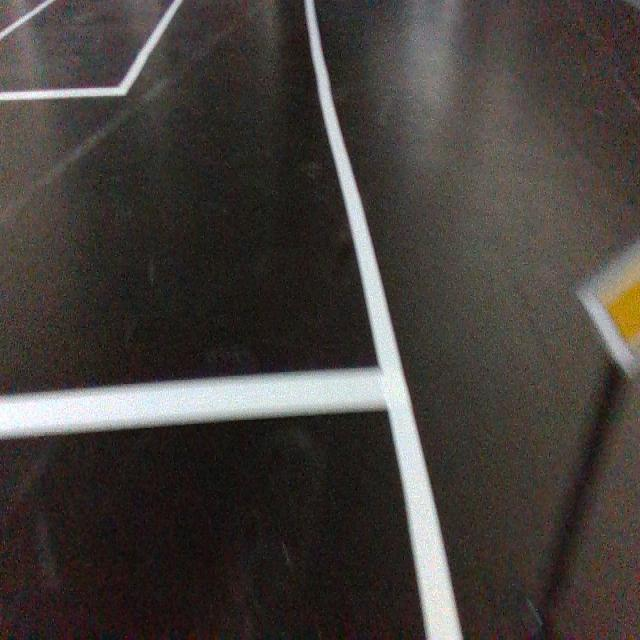priority-sign: (575, 235, 640, 379)
